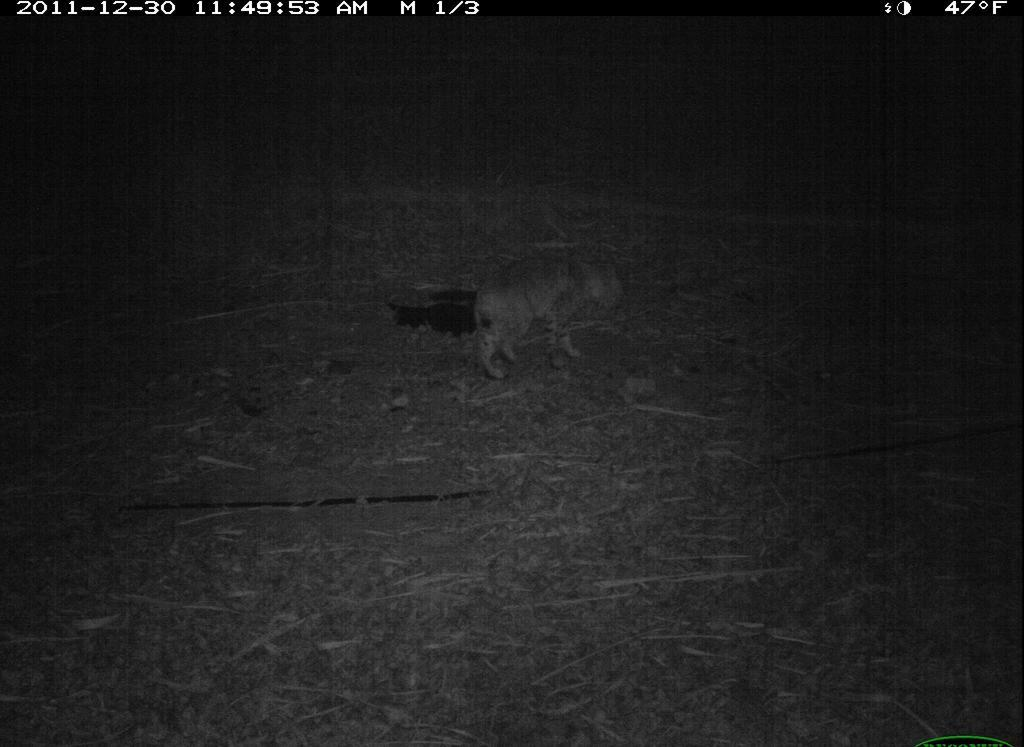bobcat: (455, 237, 638, 390)
